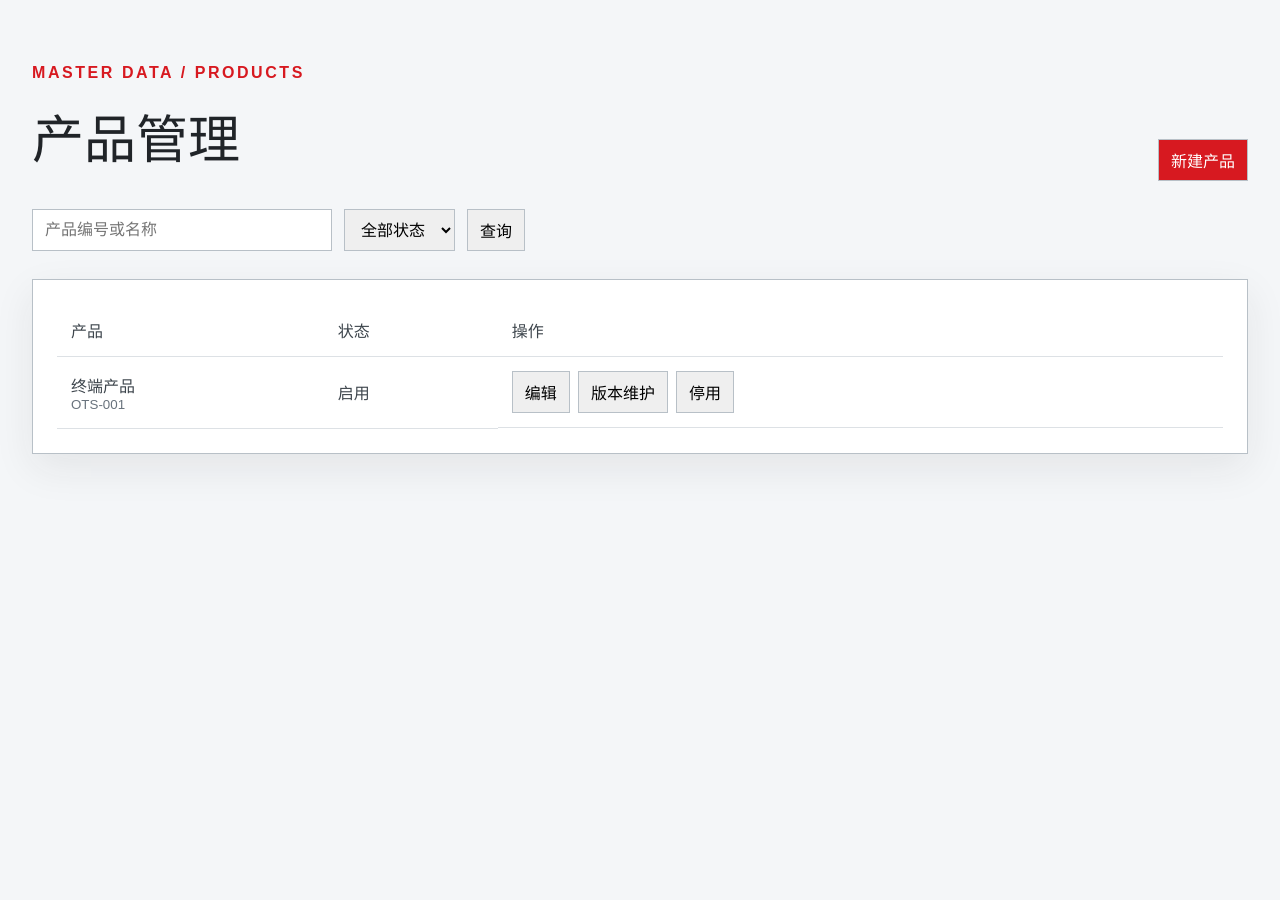
Test: ProductAdminPage › keeps product edits after an optimistic locking conflict
Click the button with aria-label "编辑终端产品" at x=541, y=392, box [512,371,570,413]
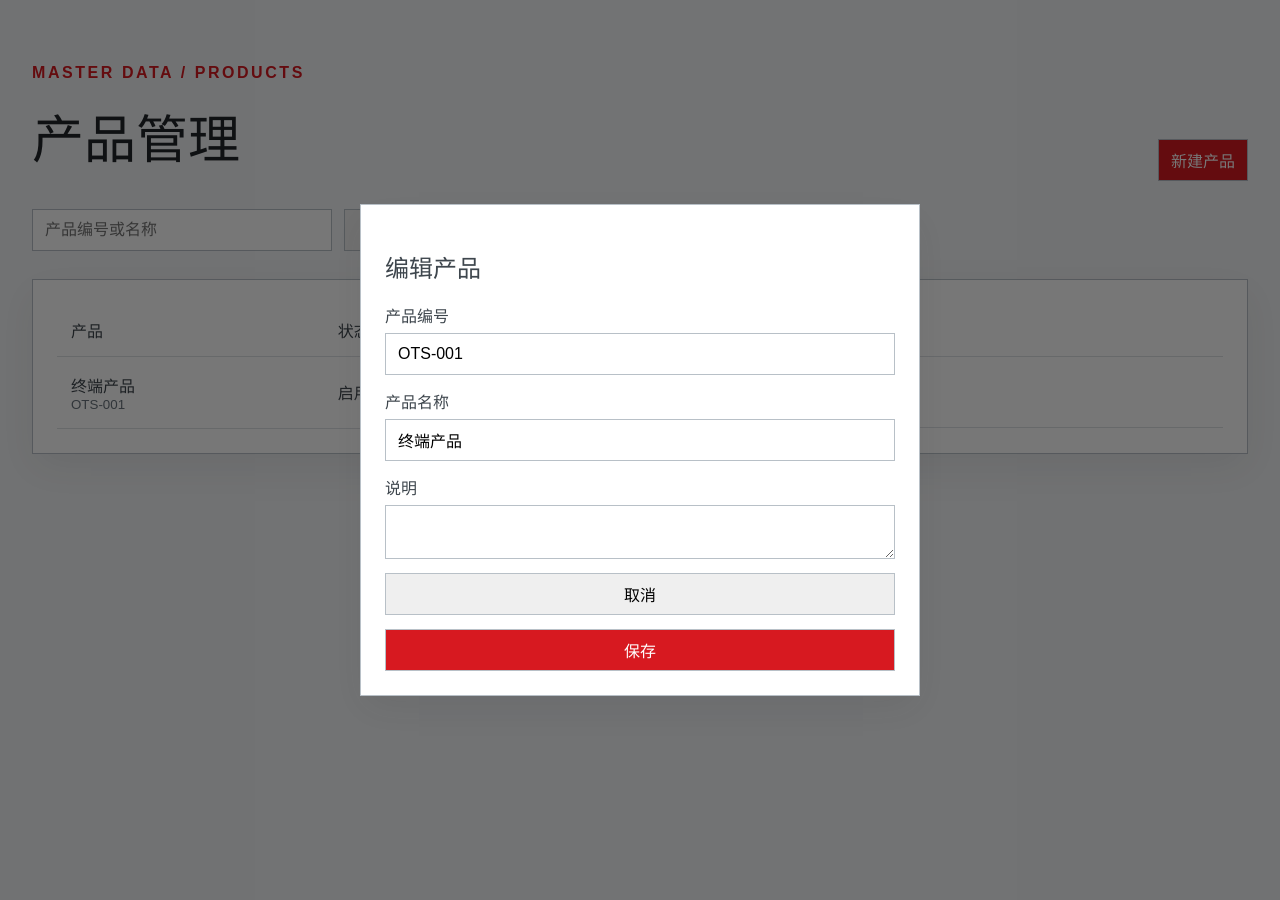
Replace the text in the field named "product_name" with "终端产品（待保存）" at x=640, y=440, box [385,419,895,461]
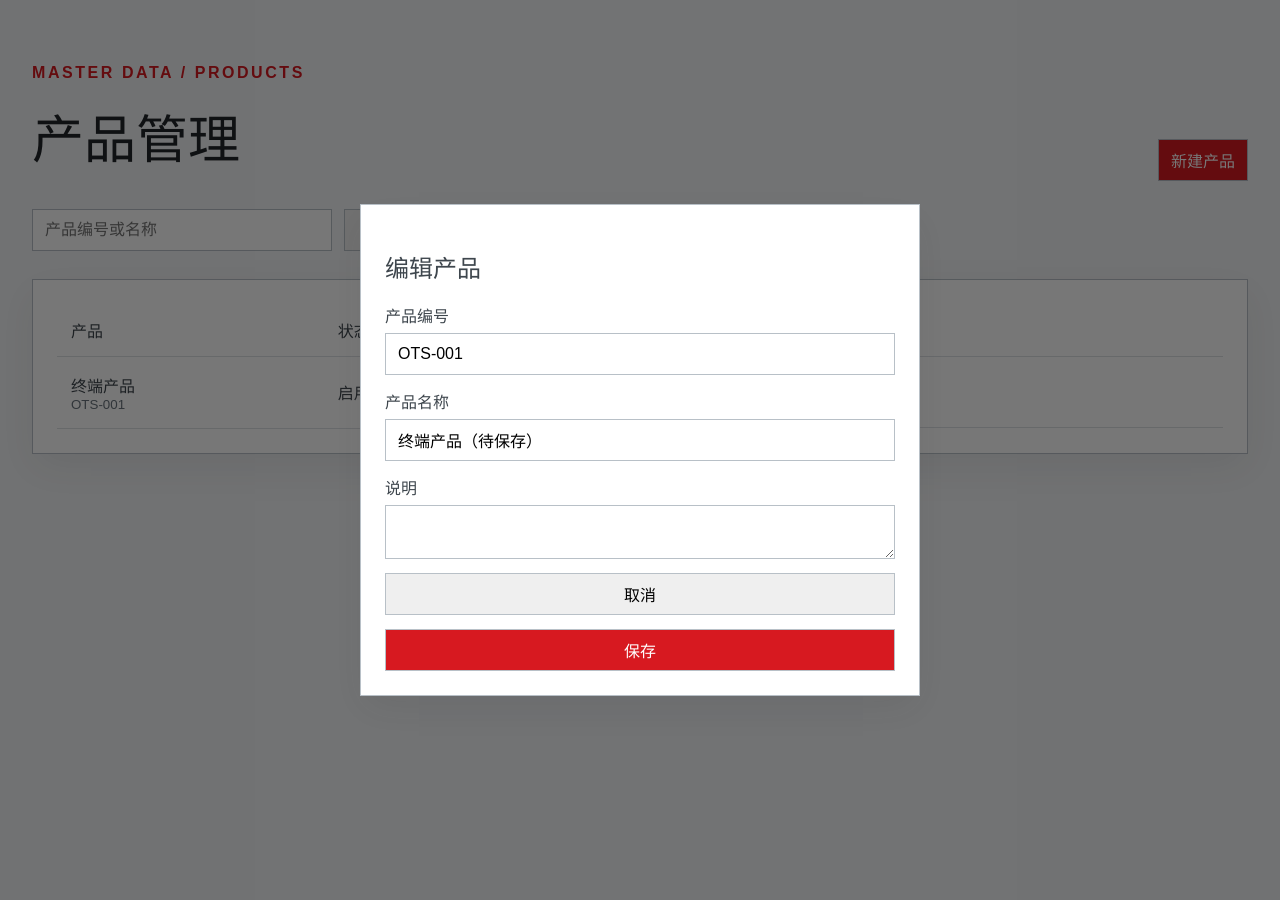
Submit the form "产品编号 产品名称 说明 取消 保存", box [385,303,895,671]
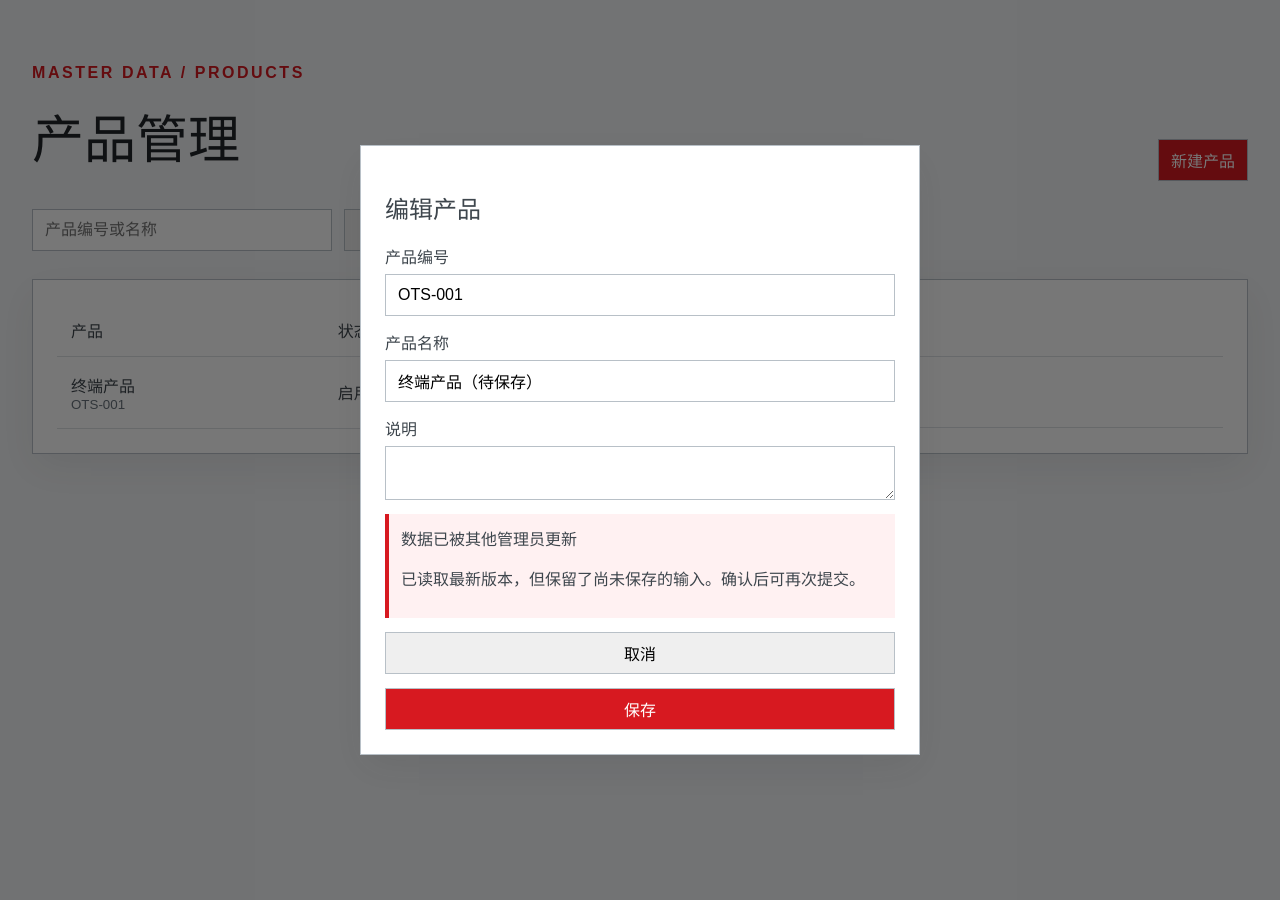
Check: the element showing "数据已被其他管理员更新 已读取最新版本，但保留了尚未保存的输入。确认后可再次提交。" is shown, box [385,514,895,618]
